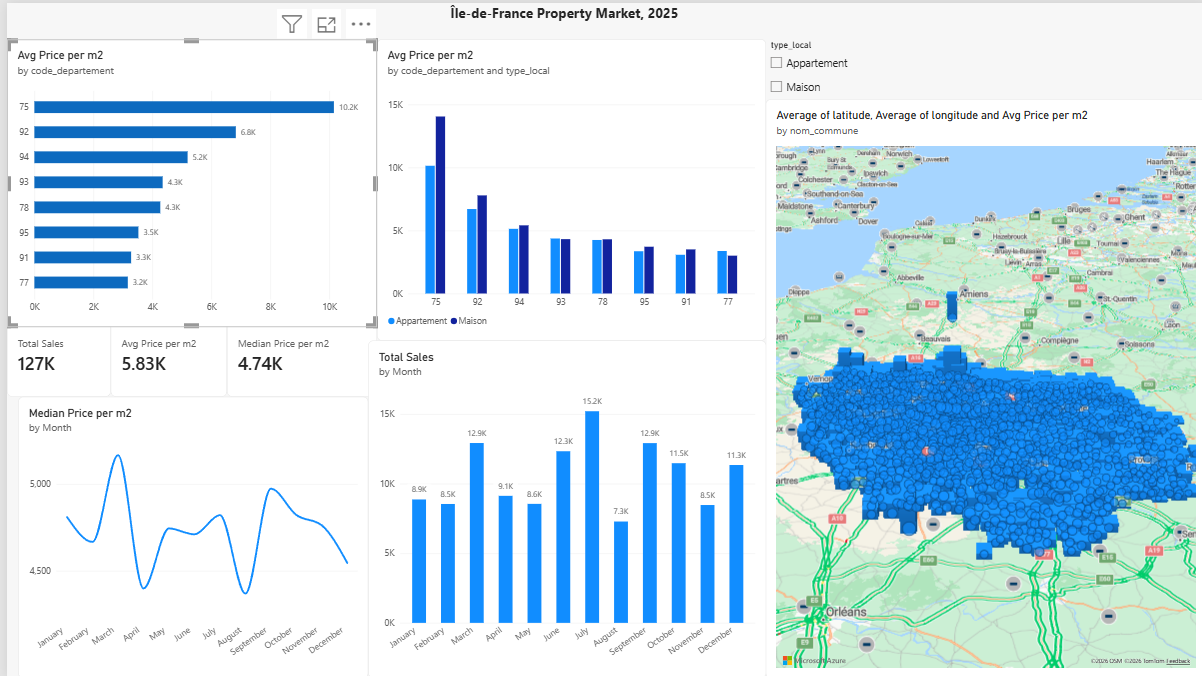

The dashboard page shown, as its layout file describes it:
{"tool":"powerbi","page":{"name":"Page 1","canvas":[1920,1080],"ordinal":0},"visuals":[{"type":"cardVisual","fields":{"Data":["dvf_clean_idf_2025.Total Sales"]},"box":[0,498,166,132],"z":0},{"type":"cardVisual","fields":{"Data":["dvf_clean_idf_2025.Avg Price per m2"]},"box":[166,498,186,132],"z":1},{"type":"cardVisual","fields":{"Data":["dvf_clean_idf_2025.Median Price per m2"]},"box":[352,498,240,132],"z":2},{"type":"clusteredBarChart","fields":{"Category":["dvf_clean_idf_2025.code_departement"],"Y":["dvf_clean_idf_2025.Avg Price per m2"]},"box":[0,58,592,460],"z":3},{"type":"lineClusteredColumnComboChart","fields":{"Category":["dvf_clean_idf_2025.code_departement"],"Series":["dvf_clean_idf_2025.type_local"],"Y":["dvf_clean_idf_2025.Avg Price per m2"]},"box":[592,58,622,482],"z":4},{"type":"slicer","fields":{"Values":["dvf_clean_idf_2025.type_local"]},"box":[1214,58,706,114],"z":5},{"type":"lineChart","fields":{"Category":["dvf_clean_idf_2025.date_mutation.Variation.Date Hierarchy.Month"],"Y":["dvf_clean_idf_2025.Median Price per m2"]},"box":[18,630,560,450],"z":6},{"type":"lineClusteredColumnComboChart","fields":{"Category":["dvf_clean_idf_2025.date_mutation.Variation.Date Hierarchy.Month"],"Y":["dvf_clean_idf_2025.Total Sales"]},"box":[578,540,636.7,540],"z":7},{"type":"azureMap","fields":{"Category":["dvf_clean_idf_2025.nom_commune"],"Size":["dvf_clean_idf_2025.Avg Price per m2"],"X":["dvf_clean_idf_2025.longitude"],"Y":["dvf_clean_idf_2025.latitude"]},"box":[1214,154,706,926],"z":8},{"type":"textbox","box":[100,0,1584,36],"z":9}]}

Visuals, with their boxes on the page's 1920x1080 design canvas (x1, y1, x2, y2). These are canvas units, not pixel positions in the 1202x676 screenshot, which may show the page scaled, cropped or inside an application window:
cardVisual - dvf_clean_idf_2025.Total Sales: (0, 498, 166, 630)
cardVisual - dvf_clean_idf_2025.Avg Price per m2: (166, 498, 352, 630)
cardVisual - dvf_clean_idf_2025.Median Price per m2: (352, 498, 592, 630)
clusteredBarChart - dvf_clean_idf_2025.code_departement x dvf_clean_idf_2025.Avg Price per m2: (0, 58, 592, 518)
lineClusteredColumnComboChart - dvf_clean_idf_2025.code_departement x dvf_clean_idf_2025.type_local: (592, 58, 1214, 540)
slicer - dvf_clean_idf_2025.type_local: (1214, 58, 1920, 172)
lineChart - dvf_clean_idf_2025.date_mutation.Variation.Date Hierarchy.Month x dvf_clean_idf_2025.Median Price per m2: (18, 630, 578, 1080)
lineClusteredColumnComboChart - dvf_clean_idf_2025.date_mutation.Variation.Date Hierarchy.Month x dvf_clean_idf_2025.Total Sales: (578, 540, 1215, 1080)
azureMap - dvf_clean_idf_2025.nom_commune x dvf_clean_idf_2025.Avg Price per m2: (1214, 154, 1920, 1080)
textbox: (100, 0, 1684, 36)
